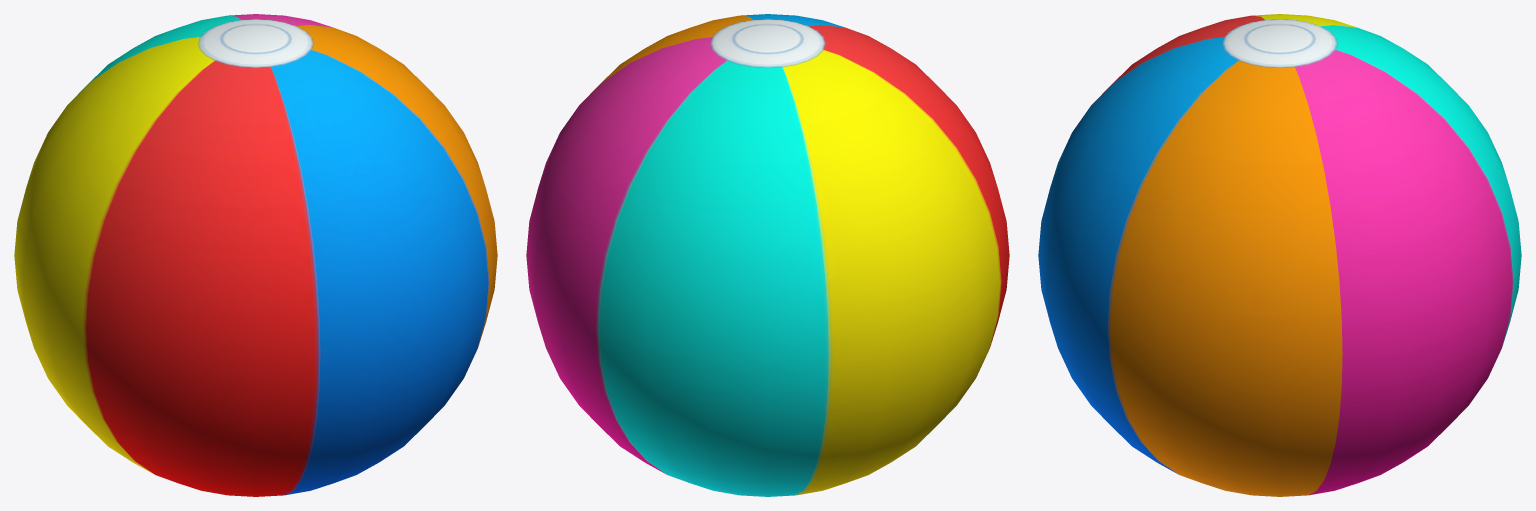
Rendered from beachball.obj.
3 renders of one model, left to right at view 1: azimuth 30°, elevation 25°; view 2: azimuth 150°, elevation 25°; view 3: azimuth 270°, elevation 25°, orthographic.
Visible parts, largest first — view 1: BeachBall; view 2: BeachBall; view 3: BeachBall.
Boxes of the visible parts, bbox=[...] form: BeachBall: bbox=[14, 14, 497, 496]; BeachBall: bbox=[526, 14, 1009, 496]; BeachBall: bbox=[1038, 14, 1521, 496].
Bounding box in the file's own units: 4.39 × 4.39 × 4.39.
Materials: 1 (1 with a texture image).
